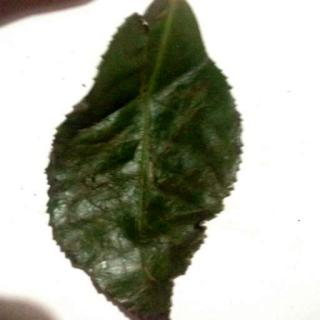Red Leaf Spot: (49, 1, 244, 320)
